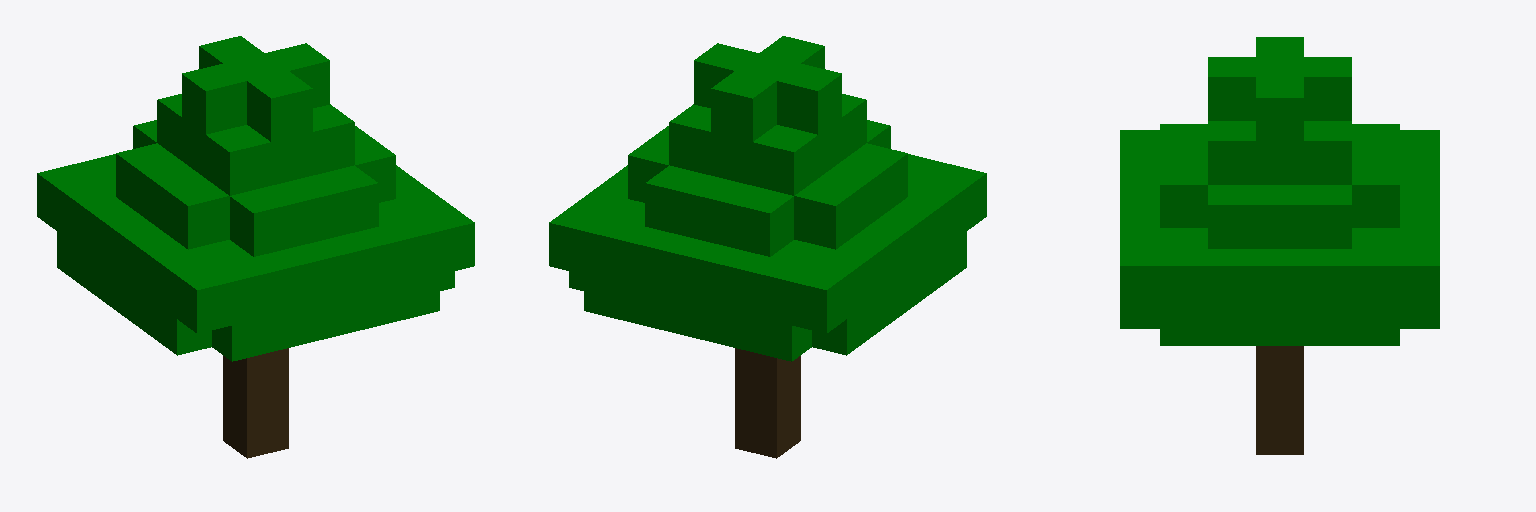
3 renders of one model, left to right at view 1: azimuth 30°, elevation 25°; view 2: azimuth 150°, elevation 25°; view 3: azimuth 270°, elevation 25°, orthographic.
Visible parts, largest first — view 1: object 1; view 2: object 1; view 3: object 1.
Boxes of the visible parts, box(x1,y1,x2,y2) form: object 1: box(37, 36, 474, 458); object 1: box(549, 36, 986, 458); object 1: box(1120, 37, 1439, 454).
Size of the model in its own units: 4 by 5.2 by 4.
1 materials, 1 textured.